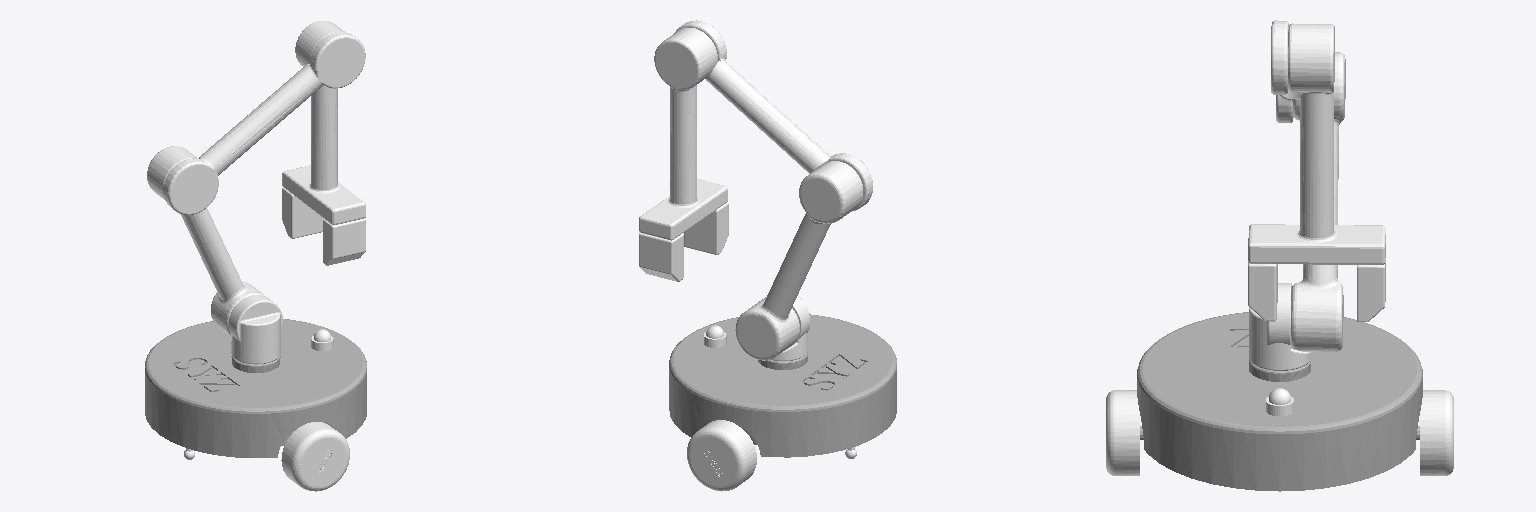
URDF robot description (syz_car_description):
<?xml version="1.0" encoding="utf-8"?>
<!-- This URDF was automatically created by SolidWorks to URDF Exporter! Originally created by Stephen Brawner (brawner@gmail.com) 
     Commit Version: 1.6.0-1-g15f4949  Build Version: 1.6.7594.29634
     For more information, please see http://wiki.ros.org/sw_urdf_exporter -->
<robot
  name="syz_car_description">
  <link
    name="base_link">
    <inertial>
      <origin
        xyz="0.264571064671905 0.211861519229942 -0.103365961549444"
        rpy="0 0 0" />
      <mass
        value="2.82084952980162" />
      <inertia
        ixx="0.0108537347537438"
        ixy="-3.88281684086677E-06"
        ixz="2.71955747576675E-07"
        iyy="0.0214097078790024"
        iyz="-1.22868588338342E-07"
        izz="0.0122762061428569" />
    </inertial>
    <visual>
      <origin
        xyz="0 0 0"
        rpy="0 0 0" />
      <geometry>
        <mesh
          filename="package://syz_car_description/meshes/base_link.STL" />
      </geometry>
      <material
        name="">
        <color
          rgba="0.752941176470588 0.752941176470588 0.752941176470588 1" />
      </material>
    </visual>
    <collision>
      <origin
        xyz="0 0 0"
        rpy="0 0 0" />
      <geometry>
        <mesh
          filename="package://syz_car_description/meshes/base_link.STL" />
      </geometry>
    </collision>
  </link>
  <link
    name="wheel1_link">
    <inertial>
      <origin
        xyz="9.11372758927165E-08 1.88003679779669E-06 -0.00370987905188275"
        rpy="0 0 0" />
      <mass
        value="0.129014509687169" />
      <inertia
        ixx="5.39155623711779E-05"
        ixy="3.87471912601779E-09"
        ixz="1.68035046736593E-10"
        iyy="5.39179162616754E-05"
        iyz="3.46623619507543E-09"
        izz="8.92224870472062E-05" />
    </inertial>
    <visual>
      <origin
        xyz="0 0 0"
        rpy="0 0 0" />
      <geometry>
        <mesh
          filename="package://syz_car_description/meshes/wheel1_link.STL" />
      </geometry>
      <material
        name="">
        <color
          rgba="1 1 1 1" />
      </material>
    </visual>
    <collision>
      <origin
        xyz="0 0 0"
        rpy="0 0 0" />
      <geometry>
        <mesh
          filename="package://syz_car_description/meshes/wheel1_link.STL" />
      </geometry>
    </collision>
  </link>
  <joint
    name="wheel1_joint"
    type="continuous">
    <origin
      xyz="0.26452 0.23637 0.17924"
      rpy="1.5708 0 0" />
    <parent
      link="base_link" />
    <child
      link="wheel1_link" />
    <axis
      xyz="0 0 1" />
    <limit
      lower="0"
      upper="0"
      effort="0"
      velocity="0" />
  </joint>
  <link
    name="wheel2_link">
    <inertial>
      <origin
        xyz="-1.71317190811315E-06 7.79670764033957E-07 -0.00370987905188277"
        rpy="0 0 0" />
      <mass
        value="0.129014509687169" />
      <inertia
        ixx="5.39149327990439E-05"
        ixy="-3.62424383422624E-09"
        ixz="-3.15858454224389E-09"
        iyy="5.39185458338093E-05"
        iyz="1.43748837439271E-09"
        izz="8.92224870472062E-05" />
    </inertial>
    <visual>
      <origin
        xyz="0 0 0"
        rpy="0 0 0" />
      <geometry>
        <mesh
          filename="package://syz_car_description/meshes/wheel2_link.STL" />
      </geometry>
      <material
        name="">
        <color
          rgba="1 1 1 1" />
      </material>
    </visual>
    <collision>
      <origin
        xyz="0 0 0"
        rpy="0 0 0" />
      <geometry>
        <mesh
          filename="package://syz_car_description/meshes/wheel2_link.STL" />
      </geometry>
    </collision>
  </link>
  <joint
    name="wheel2_joint"
    type="continuous">
    <origin
      xyz="0.26452 -0.029632 0.17924"
      rpy="-1.5708 0 0" />
    <parent
      link="base_link" />
    <child
      link="wheel2_link" />
    <axis
      xyz="0 0 -1" />
    <limit
      lower="-3.14"
      upper="3.14"
      effort="0"
      velocity="0" />
  </joint>
  <link
    name="link_1">
    <inertial>
      <origin
        xyz="-8.80519884788877E-05 -0.00374495238819089 0.0288132001320856"
        rpy="0 0 0" />
      <mass
        value="0.112783849165394" />
      <inertia
        ixx="5.1830398596716E-05"
        ixy="2.38242388417227E-07"
        ixz="2.11328178607258E-08"
        iyy="6.1976580545519E-05"
        iyz="9.00942539058051E-07"
        izz="3.72381138653624E-05" />
    </inertial>
    <visual>
      <origin
        xyz="0 0 0"
        rpy="0 0 0" />
      <geometry>
        <mesh
          filename="package://syz_car_description/meshes/link_1.STL" />
      </geometry>
      <material
        name="">
        <color
          rgba="1 1 1 1" />
      </material>
    </visual>
    <collision>
      <origin
        xyz="0 0 0"
        rpy="0 0 0" />
      <geometry>
        <mesh
          filename="package://syz_car_description/meshes/link_1.STL" />
      </geometry>
    </collision>
  </link>
  <joint
    name="joint_1"
    type="continuous">
    <origin
      xyz="0.26452 0.10337 0.25124"
      rpy="0 0 0" />
    <parent
      link="base_link" />
    <child
      link="link_1" />
    <axis
      xyz="0 0 1" />
  </joint>
  <link
    name="link_2">
    <inertial>
      <origin
        xyz="-0.0407041318692916 0.0924350686844315 0.00177036186863688"
        rpy="0 0 0" />
      <mass
        value="0.352998815464199" />
      <inertia
        ixx="0.0023951072107582"
        ixy="0.00100672905720632"
        ixz="4.37611097126077E-10"
        iyy="0.000552242035738037"
        iyz="-1.29920755164151E-09"
        izz="0.00285244667674233" />
    </inertial>
    <visual>
      <origin
        xyz="0 0 0"
        rpy="0 0 0" />
      <geometry>
        <mesh
          filename="package://syz_car_description/meshes/link_2.STL" />
      </geometry>
      <material
        name="">
        <color
          rgba="1 1 1 1" />
      </material>
    </visual>
    <collision>
      <origin
        xyz="0 0 0"
        rpy="0 0 0" />
      <geometry>
        <mesh
          filename="package://syz_car_description/meshes/link_2.STL" />
      </geometry>
    </collision>
  </link>
  <joint
    name="joint_2"
    type="continuous">
    <origin
      xyz="0.000820732655608836 0.0349903757897514 0.0400000000000669"
      rpy="1.5707963267949 0 -0.0234516540491958" />
    <parent
      link="link_1" />
    <child
      link="link_2" />
    <axis
      xyz="0 0 1" />
  </joint>
  <link
    name="link_3">
    <inertial>
      <origin
        xyz="0.0938291425296209 0.0574115998371226 0.00344401426035441"
        rpy="0 0 0" />
      <mass
        value="0.210725304344438" />
      <inertia
        ixx="0.000429454529008644"
        ixy="-0.00063153356777493"
        ixz="-1.76896624061326E-11"
        iyy="0.0010751661565358"
        iyz="2.76104292379586E-11"
        izz="0.00148238272680924" />
    </inertial>
    <visual>
      <origin
        xyz="0 0 0"
        rpy="0 0 0" />
      <geometry>
        <mesh
          filename="package://syz_car_description/meshes/link_3.STL" />
      </geometry>
      <material
        name="">
        <color
          rgba="1 1 1 1" />
      </material>
    </visual>
    <collision>
      <origin
        xyz="0 0 0"
        rpy="0 0 0" />
      <geometry>
        <mesh
          filename="package://syz_car_description/meshes/link_3.STL" />
      </geometry>
    </collision>
  </link>
  <joint
    name="joint_3"
    type="continuous">
    <origin
      xyz="-0.081408075886722 0.184869481473932 0.0249999999999999"
      rpy="0 0 0" />
    <parent
      link="link_2" />
    <child
      link="link_3" />
    <axis
      xyz="0 0 1" />
  </joint>
  <link
    name="link_4">
    <inertial>
      <origin
        xyz="-1.22408428393506E-08 -0.09061974764115 0.001776796262284"
        rpy="0 0 0" />
      <mass
        value="0.316284895686896" />
      <inertia
        ixx="0.00210234810603616"
        ixy="7.48334598074113E-11"
        ixz="-6.88093736313624E-11"
        iyy="0.000193570972243419"
        iyz="-5.09237275744556E-05"
        izz="0.0020034177336681" />
    </inertial>
    <visual>
      <origin
        xyz="0 0 0"
        rpy="0 0 0" />
      <geometry>
        <mesh
          filename="package://syz_car_description/meshes/link_4.STL" />
      </geometry>
      <material
        name="">
        <color
          rgba="1 1 1 1" />
      </material>
    </visual>
    <collision>
      <origin
        xyz="0 0 0"
        rpy="0 0 0" />
      <geometry>
        <mesh
          filename="package://syz_car_description/meshes/link_4.STL" />
      </geometry>
    </collision>
  </link>
  <joint
    name="joint_4"
    type="continuous">
    <origin
      xyz="0.187658300359123 0.114823178436761 -0.025"
      rpy="0 0 0" />
    <parent
      link="link_3" />
    <child
      link="link_4" />
    <axis
      xyz="0 0 1" />
  </joint>
  <link
    name="paw_link_1">
    <inertial>
      <origin
        xyz="2.26263452418607E-13 0.0265956801554583 0.0120706896959856"
        rpy="0 0 0" />
      <mass
        value="0.0551790477226033" />
      <inertia
        ixx="1.50306353157143E-05"
        ixy="2.5021929384184E-20"
        ixz="2.38228016415272E-22"
        iyy="1.15686998567145E-05"
        iyz="-8.58920394998044E-07"
        izz="2.11147340300982E-05" />
    </inertial>
    <visual>
      <origin
        xyz="0 0 0"
        rpy="0 0 0" />
      <geometry>
        <mesh
          filename="package://syz_car_description/meshes/paw_link_1.STL" />
      </geometry>
      <material
        name="">
        <color
          rgba="1 1 1 1" />
      </material>
    </visual>
    <collision>
      <origin
        xyz="0 0 0"
        rpy="0 0 0" />
      <geometry>
        <mesh
          filename="package://syz_car_description/meshes/paw_link_1.STL" />
      </geometry>
    </collision>
  </link>
  <joint
    name="paw_joint_1"
    type="prismatic">
    <origin
      xyz="0 -0.188909859317103 0.0589098593171028"
      rpy="3.14159265358979 0 0" />
    <parent
      link="link_4" />
    <child
      link="paw_link_1" />
    <axis
      xyz="0 0 -1" />
    <limit
      lower="-0.05"
      upper="0"
      effort="0"
      velocity="0" />
  </joint>
  <link
    name="paw_link_2">
    <inertial>
      <origin
        xyz="2.26263452418607E-13 -0.0265956801554582 0.012070689695978"
        rpy="0 0 0" />
      <mass
        value="0.0551790477226033" />
      <inertia
        ixx="1.50306353157142E-05"
        ixy="-1.7878397614176E-20"
        ixz="1.2837843106823E-20"
        iyy="1.15686998567145E-05"
        iyz="8.58920394998043E-07"
        izz="2.11147340300982E-05" />
    </inertial>
    <visual>
      <origin
        xyz="0 0 0"
        rpy="0 0 0" />
      <geometry>
        <mesh
          filename="package://syz_car_description/meshes/paw_link_2.STL" />
      </geometry>
      <material
        name="">
        <color
          rgba="1 1 1 1" />
      </material>
    </visual>
    <collision>
      <origin
        xyz="0 0 0"
        rpy="0 0 0" />
      <geometry>
        <mesh
          filename="package://syz_car_description/meshes/paw_link_2.STL" />
      </geometry>
    </collision>
  </link>
  <joint
    name="paw_joint_2"
    type="prismatic">
    <origin
      xyz="0 -0.188909859317103 -0.0589098593171027"
      rpy="0 0 0" />
    <parent
      link="link_4" />
    <child
      link="paw_link_2" />
    <axis
      xyz="0 0 -1" />
    <limit
      lower="-0.05"
      upper="0"
      effort="0"
      velocity="0" />
    <mimic
      joint="paw_joint_1"
      multiplier="1"
      offset="0" />
  </joint>
  <link
    name="imu_link">
    <inertial>
      <origin
        xyz="-0.000447470817120654 0.00749999999999998 -0.0048249027237354"
        rpy="0 0 0" />
      <mass
        value="0.018" />
      <inertia
        ixx="2.7375E-06"
        ixy="3.52930394689312E-23"
        ixz="-2.15284562211879E-22"
        iyy="3.75E-06"
        iyz="1.62859024768586E-23"
        izz="1.6875E-06" />
    </inertial>
    <visual>
      <origin
        xyz="0 0 0"
        rpy="0 0 0" />
      <geometry>
        <mesh
          filename="package://syz_car_description/meshes/imu_link.STL" />
      </geometry>
      <material
        name="">
        <color
          rgba="1 1 1 1" />
      </material>
    </visual>
    <collision>
      <origin
        xyz="0 0 0"
        rpy="0 0 0" />
      <geometry>
        <mesh
          filename="package://syz_car_description/meshes/imu_link.STL" />
      </geometry>
    </collision>
  </link>
  <joint
    name="imu_joint"
    type="fixed">
    <origin
      xyz="0.26497 0.096543 0.20374"
      rpy="1.5708 0 0" />
    <parent
      link="base_link" />
    <child
      link="imu_link" />
    <axis
      xyz="0 0 0" />
  </joint>
  <link
    name="laser_link">
    <inertial>
      <origin
        xyz="5.55111512312578E-17 0.00782079066487149 -1.38777878078145E-17"
        rpy="0 0 0" />
      <mass
        value="0.00716005581604929" />
      <inertia
        ixx="4.17455650326346E-07"
        ixy="-1.40657640609582E-23"
        ixz="1.85726527107105E-22"
        iyy="4.75110314768819E-07"
        iyz="9.4485711737932E-24"
        izz="4.17455495962685E-07" />
    </inertial>
    <visual>
      <origin
        xyz="0 0 0"
        rpy="0 0 0" />
      <geometry>
        <mesh
          filename="package://syz_car_description/meshes/laser_link.STL" />
      </geometry>
      <material
        name="">
        <color
          rgba="1 1 1 1" />
      </material>
    </visual>
    <collision>
      <origin
        xyz="0 0 0"
        rpy="0 0 0" />
      <geometry>
        <mesh
          filename="package://syz_car_description/meshes/laser_link.STL" />
      </geometry>
    </collision>
  </link>
  <joint
    name="laser_joint"
    type="continuous">
    <origin
      xyz="0.35052 0.10337 0.24124"
      rpy="1.5708 0 3.1416" />
    <parent
      link="base_link" />
    <child
      link="laser_link" />
    <axis
      xyz="0 1 0" />
  </joint>
  <link
    name="camera_link">
    <inertial>
      <origin
        xyz="-6.55031584528842E-15 0.00131249999999916 -3.99680288865056E-15"
        rpy="0 0 0" />
      <mass
        value="8.97971900151085E-05" />
      <inertia
        ixx="2.85316540462069E-10"
        ixy="-1.37404979080218E-24"
        ixz="-1.68021061924834E-25"
        iyy="4.40006231074034E-10"
        iyz="-2.6035850956461E-24"
        izz="2.85316540462068E-10" />
    </inertial>
    <visual>
      <origin
        xyz="0 0 0"
        rpy="0 0 0" />
      <geometry>
        <mesh
          filename="package://syz_car_description/meshes/camera_link.STL" />
      </geometry>
      <material
        name="">
        <color
          rgba="1 1 1 1" />
      </material>
    </visual>
    <collision>
      <origin
        xyz="0 0 0"
        rpy="0 0 0" />
      <geometry>
        <mesh
          filename="package://syz_car_description/meshes/camera_link.STL" />
      </geometry>
    </collision>
  </link>
  <joint
    name="camera_joint"
    type="fixed">
    <origin
      xyz="0.37156 0.13587 0.40493"
      rpy="-1.5708 0 2.5629" />
    <parent
      link="base_link" />
    <child
      link="camera_link" />
    <axis
      xyz="0 0 0" />
  </joint>
  <link
    name="round1_link">
    <inertial>
      <origin
        xyz="0 -0.0224623042948903 0"
        rpy="0 0 0" />
      <mass
        value="0.0025156137876412" />
      <inertia
        ixx="3.44355456083448E-07"
        ixy="1.21025558768591E-25"
        ixz="-6.62565254193244E-15"
        iyy="3.04549890286932E-08"
        iyz="-5.2431236727681E-25"
        izz="3.44355461896161E-07" />
    </inertial>
    <visual>
      <origin
        xyz="0 0 0"
        rpy="0 0 0" />
      <geometry>
        <mesh
          filename="package://syz_car_description/meshes/round1_link.STL" />
      </geometry>
      <material
        name="">
        <color
          rgba="1 1 1 1" />
      </material>
    </visual>
    <collision>
      <origin
        xyz="0 0 0"
        rpy="0 0 0" />
      <geometry>
        <mesh
          filename="package://syz_car_description/meshes/round1_link.STL" />
      </geometry>
    </collision>
  </link>
  <joint
    name="round1_joint"
    type="continuous">
    <origin
      xyz="0.35052 0.10337 0.18124"
      rpy="1.5708 0 0" />
    <parent
      link="base_link" />
    <child
      link="round1_link" />
    <axis
      xyz="0 1 0" />
  </joint>
  <link
    name="round2_link">
    <inertial>
      <origin
        xyz="0 -0.0224623042948903 0"
        rpy="0 0 0" />
      <mass
        value="0.00251561378764121" />
      <inertia
        ixx="3.44355456083449E-07"
        ixy="-2.37201565027914E-24"
        ixz="-6.62565251604925E-15"
        iyy="3.04549890286933E-08"
        iyz="5.30383384596421E-25"
        izz="3.44355461896162E-07" />
    </inertial>
    <visual>
      <origin
        xyz="0 0 0"
        rpy="0 0 0" />
      <geometry>
        <mesh
          filename="package://syz_car_description/meshes/round2_link.STL" />
      </geometry>
      <material
        name="">
        <color
          rgba="1 1 1 1" />
      </material>
    </visual>
    <collision>
      <origin
        xyz="0 0 0"
        rpy="0 0 0" />
      <geometry>
        <mesh
          filename="package://syz_car_description/meshes/round2_link.STL" />
      </geometry>
    </collision>
  </link>
  <joint
    name="round2_joint"
    type="continuous">
    <origin
      xyz="0.178521988305881 0.103367515007061 0.181239553554958"
      rpy="1.5707963267949 0 0" />
    <parent
      link="base_link" />
    <child
      link="round2_link" />
    <axis
      xyz="0 1 0" />
  </joint>
</robot>

--- Facts derived from the render (not from the file) ---
Views: 3 orthographic renders of the robot side by side, from view 1: azimuth 30°, elevation 25°; view 2: azimuth 150°, elevation 25°; view 3: azimuth 270°, elevation 25°.
Model syz_car_description with 14 links and 13 joints (9 continuous, 2 prismatic, 2 fixed), rooted at base_link, posed every joint at zero.
Links seen in each view (by area): view 1: base_link, link_3, link_4, link_2, wheel2_link, link_1, paw_link_1, paw_link_2; view 2: base_link, link_4, link_2, link_3, wheel1_link, paw_link_2, paw_link_1, link_1; view 3: base_link, link_4, link_2, link_1, wheel2_link, wheel1_link, link_3, paw_link_1, paw_link_2, laser_link.
Boxes of the visible links, x1,y1,x2,y2 form: base_link: [145, 319, 366, 457]; link_3: [164, 32, 365, 214]; link_4: [282, 21, 365, 224]; link_2: [147, 146, 264, 336]; wheel2_link: [281, 422, 349, 491]; link_1: [229, 295, 282, 364]; paw_link_1: [323, 218, 365, 265]; paw_link_2: [282, 187, 323, 238]; base_link: [669, 314, 896, 457]; link_4: [639, 28, 727, 240]; link_2: [735, 161, 862, 360]; link_3: [674, 20, 872, 210]; wheel1_link: [687, 420, 756, 491]; paw_link_2: [639, 233, 683, 281]; paw_link_1: [684, 203, 728, 254]; link_1: [762, 296, 810, 360]; base_link: [1137, 312, 1422, 491]; link_4: [1248, 23, 1385, 264]; link_2: [1291, 52, 1345, 351]; link_1: [1249, 283, 1310, 370]; wheel2_link: [1106, 390, 1139, 475]; wheel1_link: [1420, 390, 1453, 475]; link_3: [1271, 20, 1299, 122]; paw_link_1: [1248, 262, 1277, 321]; paw_link_2: [1357, 258, 1385, 321]; laser_link: [1266, 388, 1293, 415].
Size in the robot's own frame: 0.2638 by 0.304 by 0.4817 metres.
Meshes: 14 distinct files referenced, 13 mesh visuals loaded (13 binary STL); not drawn: 1 (reference not matched to a file when rendering).
